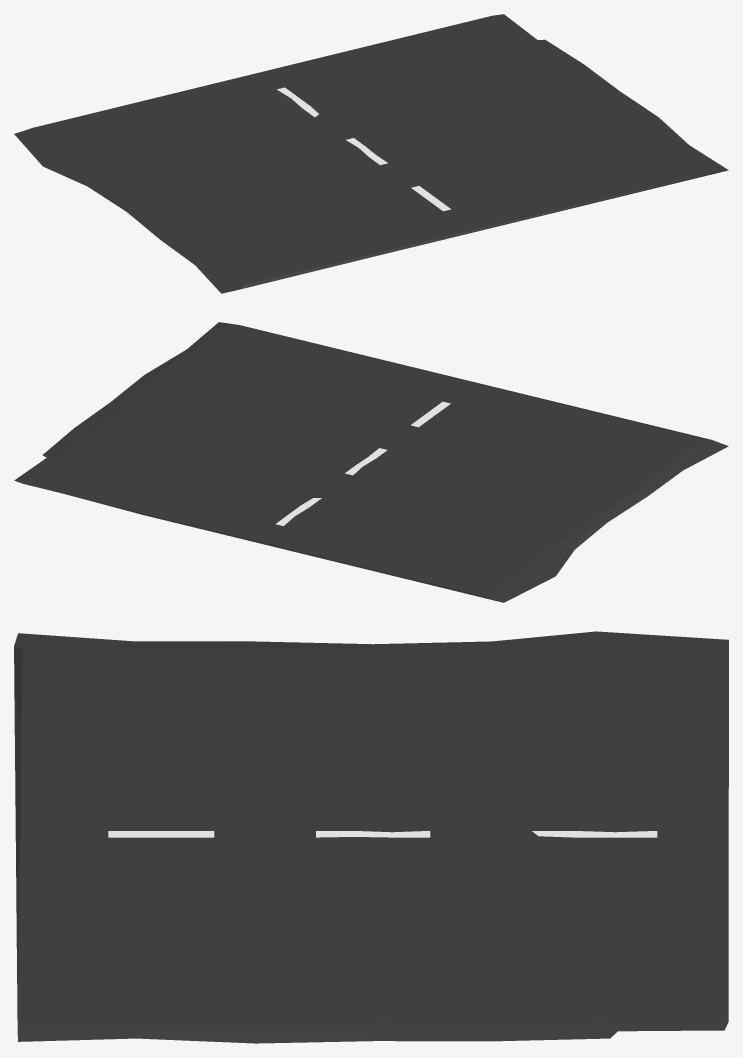
File: Estrada3.fbx
3 renders of one model, top to bottom at view 1: azimuth 30°, elevation 25°; view 2: azimuth 150°, elevation 25°; view 3: azimuth 270°, elevation 25°, orthographic. The views are drawn at different scales.
Parts seen in each view (by area): view 1: Cube.013; view 2: Cube.013; view 3: Cube.013.
Part boxes in pixels (left/top/right/bottom): Cube.013: left=14, top=14, right=728, bottom=293; Cube.013: left=14, top=322, right=728, bottom=602; Cube.013: left=14, top=631, right=728, bottom=1043.
Size of the model in its own units: 5757 by 27.13 by 4222.
